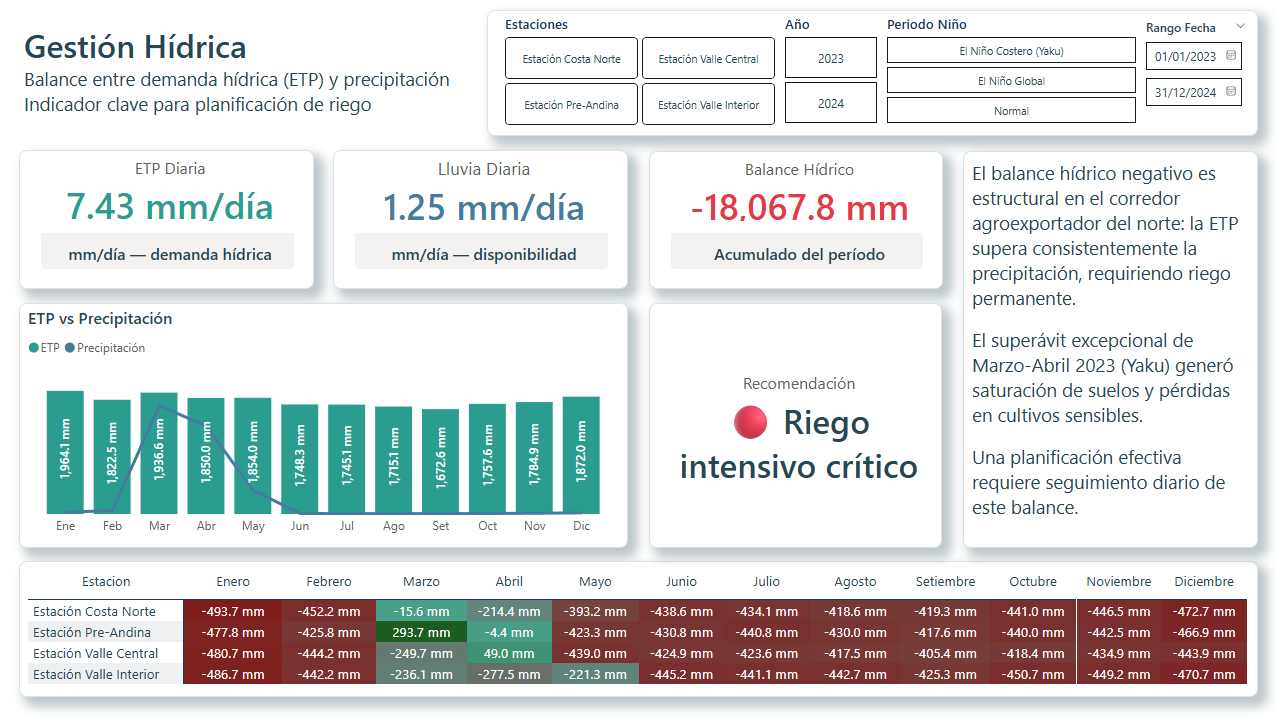

This screenshot's page, from the dashboard's own definition file:
{"tool":"powerbi","page":{"name":"Gestión Hídrica","canvas":[1280,720],"ordinal":2},"visuals":[{"type":"shape","box":[489.2,10,770.7,125.7],"z":0},{"type":"textbox","box":[21.4,17.5,461,108],"z":1000},{"type":"advancedSlicerVisual","title":"Estaciones","fields":{"Values":["dim_station.station_name"]},"box":[502,15.5,279.7,114.8],"z":2000},{"type":"slicer","fields":{"Values":["dim_date.date_local"]},"box":[1135,14.5,125.5,114.8],"z":3000},{"type":"listSlicer","fields":{"Values":["dim_date.year"]},"box":[781.7,14.6,102,114.8],"z":4000},{"type":"listSlicer","fields":{"Values":["dim_date.enso_period"]},"box":[883.7,15.5,259.6,114.8],"z":5000},{"type":"cardVisual","fields":{"Data":["fact_daily_summary.ETP Diaria Promedio"]},"box":[21,150.3,295.2,138.5],"z":6000},{"type":"cardVisual","fields":{"Data":["fact_daily_summary.Lluvia Diaria Promedio"]},"box":[335.3,150.3,295.2,138.5],"z":7000},{"type":"cardVisual","fields":{"Data":["fact_daily_summary.Balance Hídrico"]},"box":[650.7,150.8,294,138.1],"z":8000},{"type":"lineClusteredColumnComboChart","title":"ETP vs Precipitación","fields":{"Category":["dim_date.month_3name"],"Y":["fact_daily_summary.ETP Acumulada"],"Y2":["fact_daily_summary.Precipitación Acumulada"]},"box":[21.4,303.5,608.9,244.1],"z":9000},{"type":"pivotTable","fields":{"Rows":["dim_station.station_name"],"Columns":["dim_date.month_name_es"],"Values":["fact_daily_summary.Balance Hídrico"]},"box":[21.4,561.2,1238.2,136.2],"z":10000},{"type":"textbox","box":[964.9,150.8,294.7,396.8],"z":11000},{"type":"cardVisual","fields":{"Data":["fact_daily_summary.Recomendación de Riego"]},"box":[650.7,303.5,293.7,244.1],"z":12000}]}

Visuals, with their boxes in screenshot pixels (x1, y1, x2, y2), scaled from the page's 1280x720 canvas onto the 1277x720 screenshot:
shape: (left=488, top=10, right=1257, bottom=136)
textbox: (left=21, top=18, right=481, bottom=126)
"Estaciones" advancedSlicerVisual: (left=501, top=16, right=780, bottom=130)
slicer - dim_date.date_local: (left=1132, top=14, right=1258, bottom=129)
listSlicer - dim_date.year: (left=780, top=15, right=882, bottom=129)
listSlicer - dim_date.enso_period: (left=882, top=16, right=1141, bottom=130)
cardVisual - fact_daily_summary.ETP Diaria Promedio: (left=21, top=150, right=315, bottom=289)
cardVisual - fact_daily_summary.Lluvia Diaria Promedio: (left=335, top=150, right=629, bottom=289)
cardVisual - fact_daily_summary.Balance Hídrico: (left=649, top=151, right=942, bottom=289)
"ETP vs Precipitación" lineClusteredColumnComboChart: (left=21, top=304, right=629, bottom=548)
pivotTable - dim_station.station_name x dim_date.month_name_es: (left=21, top=561, right=1257, bottom=697)
textbox: (left=963, top=151, right=1257, bottom=548)
cardVisual - fact_daily_summary.Recomendación de Riego: (left=649, top=304, right=942, bottom=548)
